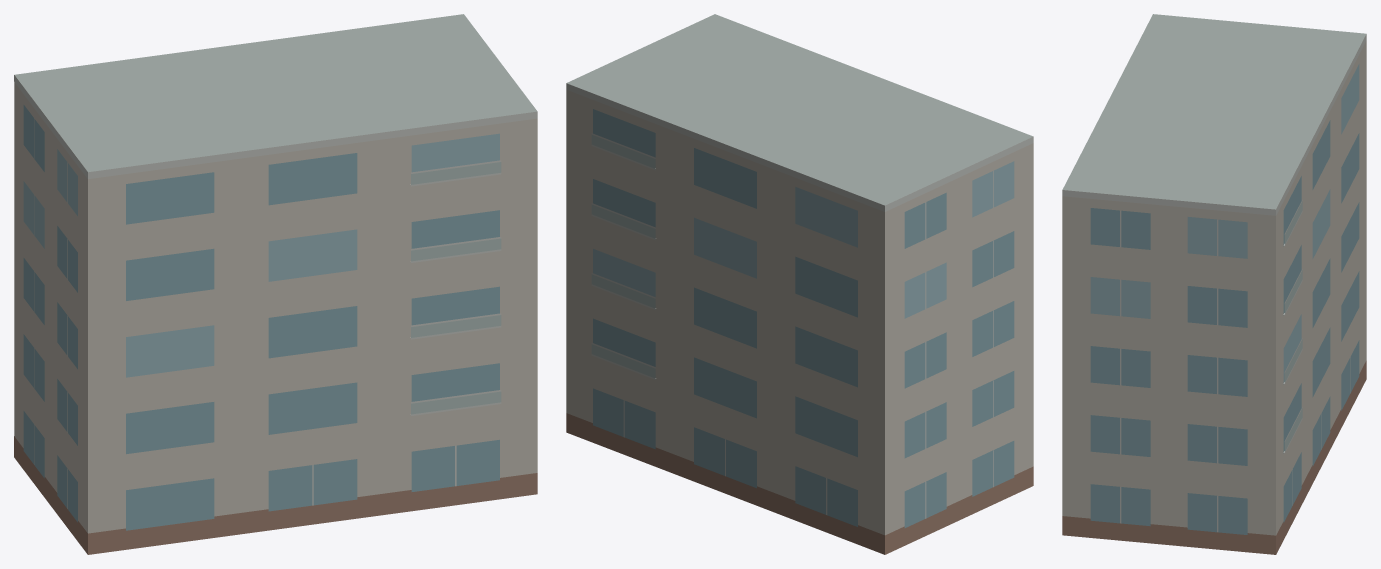
Rendered from survey-upis-32942623.glb.
The picture shows the model from 3 angles, left to right: view 1: azimuth 30°, elevation 25°; view 2: azimuth 150°, elevation 25°; view 3: azimuth 270°, elevation 25°; orthographic projection. The views are drawn at different scales.
Parts seen in each view (by area): view 1: survey-upis-32942623.tmp; view 2: survey-upis-32942623.tmp; view 3: survey-upis-32942623.tmp.
Part boxes in pixels (x1=…): survey-upis-32942623.tmp: x1=14, y1=14, x2=537, y2=554; survey-upis-32942623.tmp: x1=566, y1=14, x2=1033, y2=554; survey-upis-32942623.tmp: x1=1062, y1=14, x2=1366, y2=554.
Bounding box in the file's own units: 16.16 × 13.3 × 10.63.
